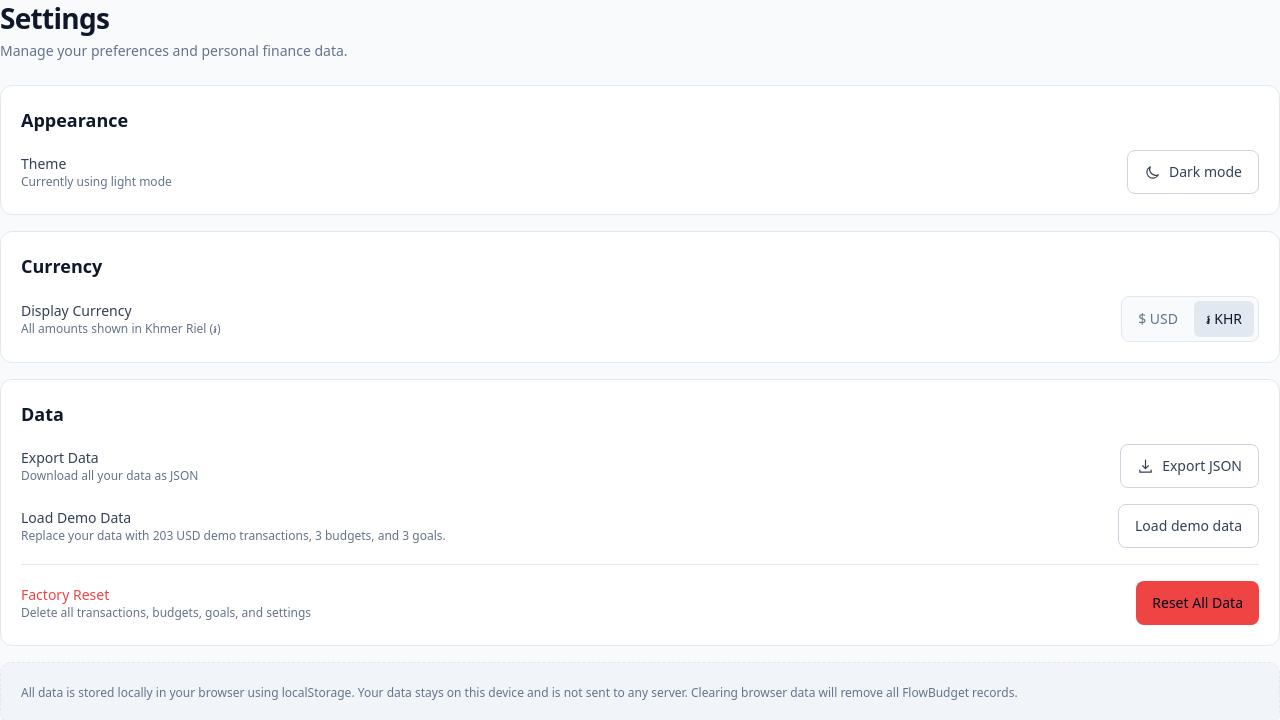
currency changes (WBS 1.3.6.2) › confirmed KHR to USD switching clears records, keeps theme/other data, and survives remount
This screenshot has width=1280, height=720.
Later steps or results of the test are not shown.
Click the button "$ USD".
click(1158, 319)  # box [1126,301,1190,337]
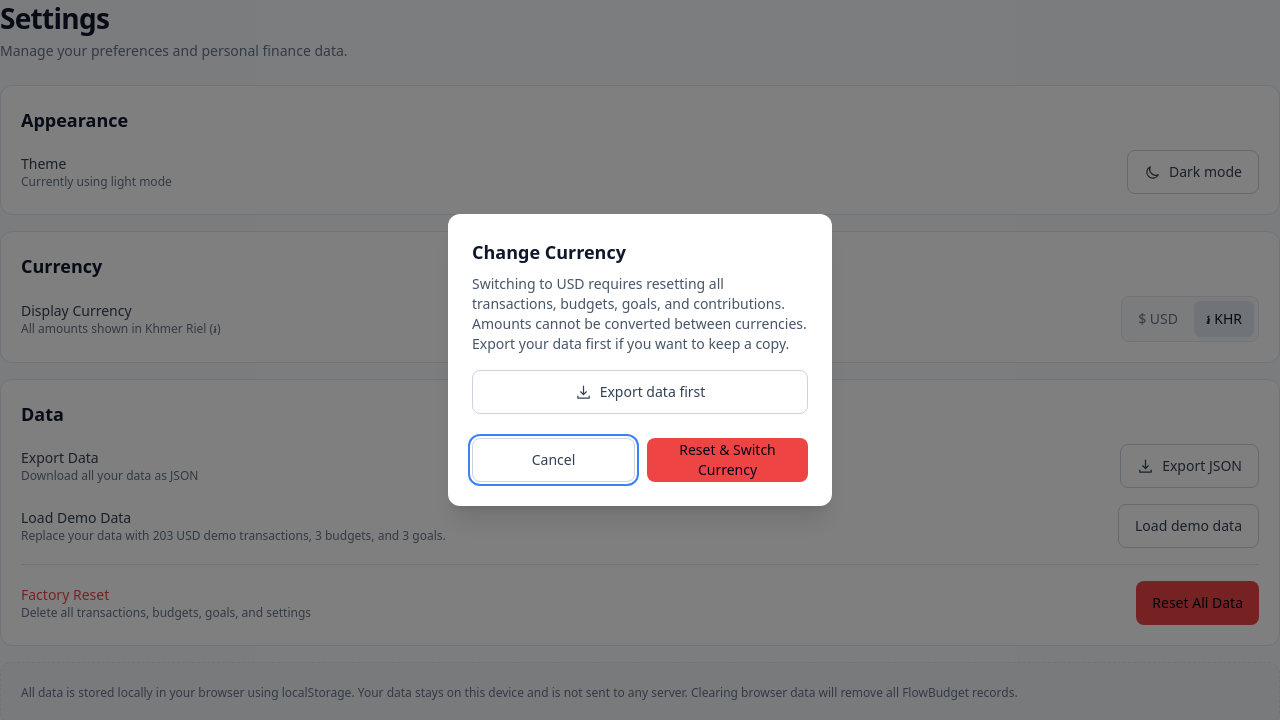
Expected: the button "Reset & Switch Currency" is shown, [647,438,808,482]
